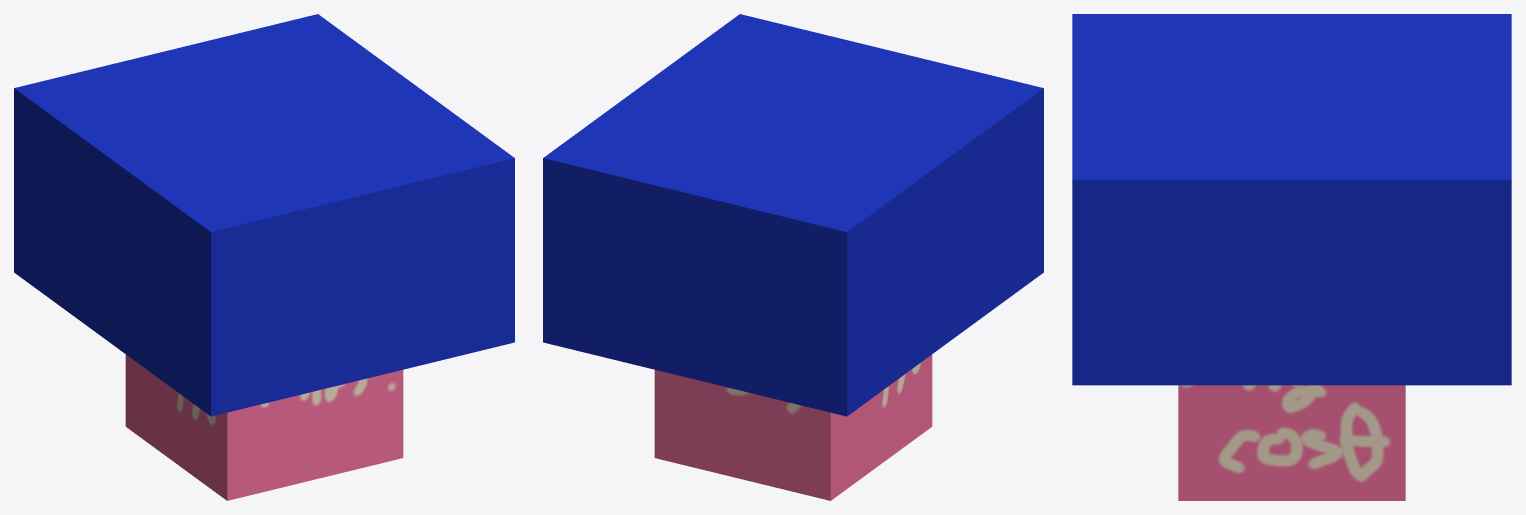
The model's file is cubes.obj.
3 views of the same model, side by side, from view 1: azimuth 30°, elevation 25°; view 2: azimuth 150°, elevation 25°; view 3: azimuth 270°, elevation 25° (orthographic). The views are drawn at different scales.
Parts seen in each view (by area): view 1: PinkCube_立方体; view 2: PinkCube_立方体; view 3: PinkCube_立方体.
Part boxes in pixels (x1,y1,x2,y2): PinkCube_立方体: (14, 14, 514, 500); PinkCube_立方体: (543, 14, 1043, 500); PinkCube_立方体: (1072, 14, 1511, 500).
Size of the model in its own units: 3.45 by 3.46 by 3.87.
Materials: 2 (1 with a texture image).
